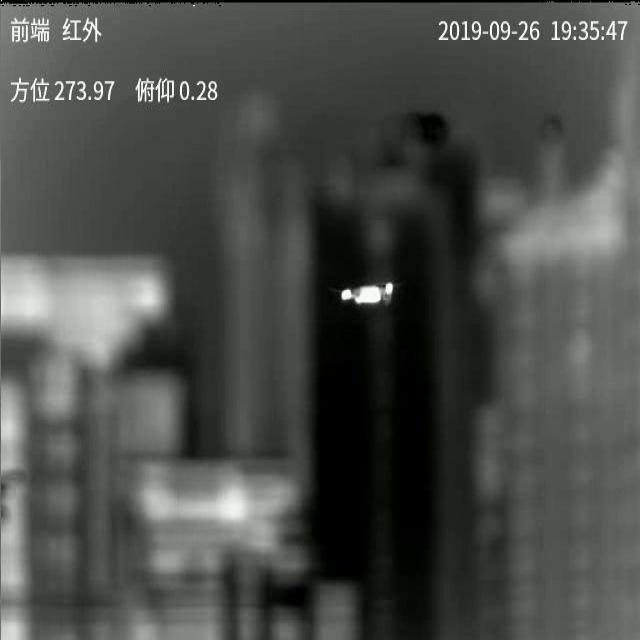drone: (341, 281, 393, 304)
